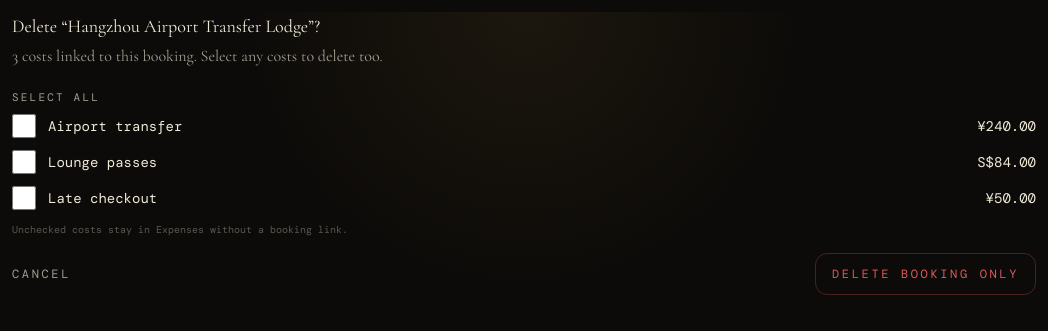
Test: BookingDeleteReview › reports several distinct people with a summed original-currency amount
Click the checkbox labelled "Lounge passes S$84.00": {"x": 24, "y": 162} [12,150,36,174]
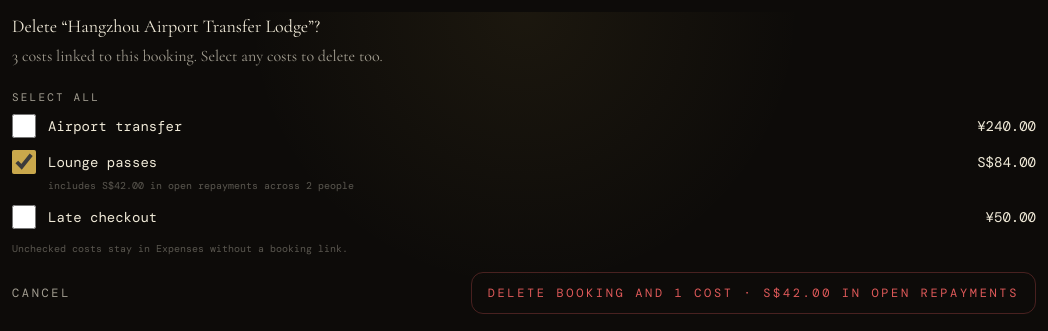
Expected: the text "includes S$42.00 in open repayments across 2 people" is shown, [48,178,354,192]
